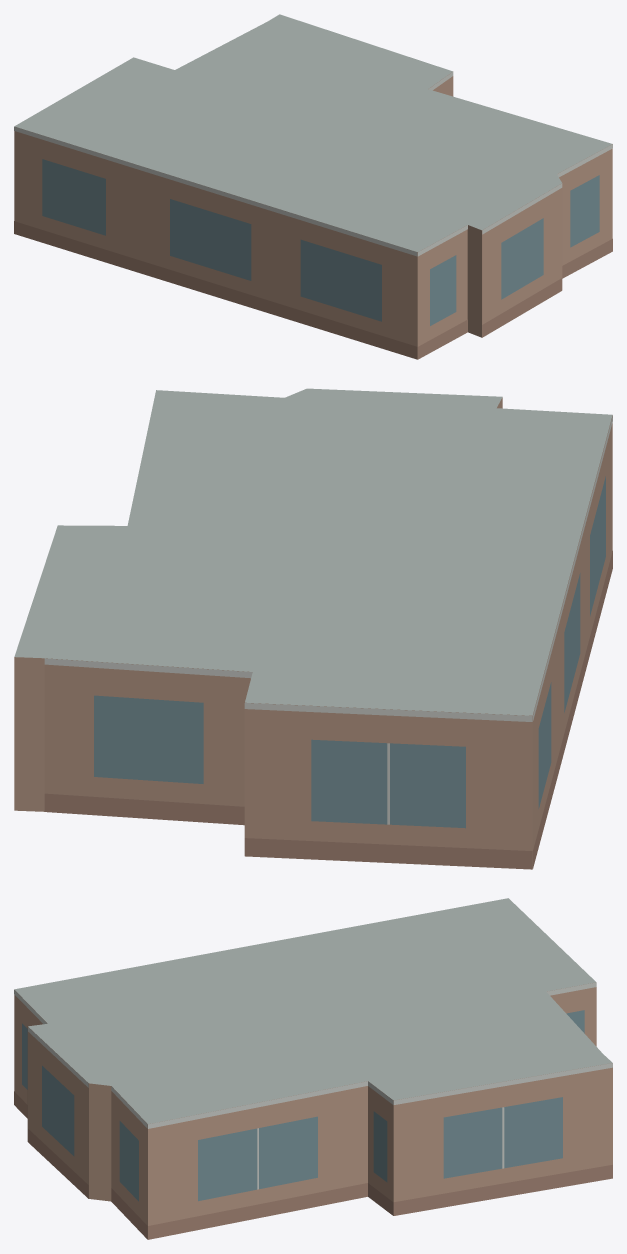
The model's file is survey-upis-32490901.glb.
3 views of the same model, one above another, from view 1: azimuth 30°, elevation 25°; view 2: azimuth 150°, elevation 25°; view 3: azimuth 270°, elevation 25° (orthographic). The views are drawn at different scales.
Visible parts, largest first — view 1: survey-upis-32490901.tmp; view 2: survey-upis-32490901.tmp; view 3: survey-upis-32490901.tmp.
Part boxes in pixels (<box>): survey-upis-32490901.tmp: <box>14,14,612,359</box>; survey-upis-32490901.tmp: <box>14,388,612,869</box>; survey-upis-32490901.tmp: <box>14,898,612,1239</box>.
Size of the model in its own units: 12.81 by 3.05 by 14.33.
